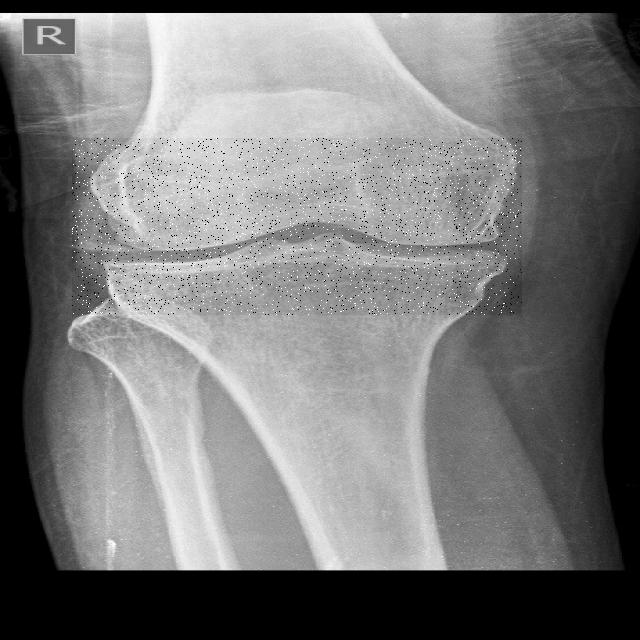osteo: (72, 138, 522, 315)
